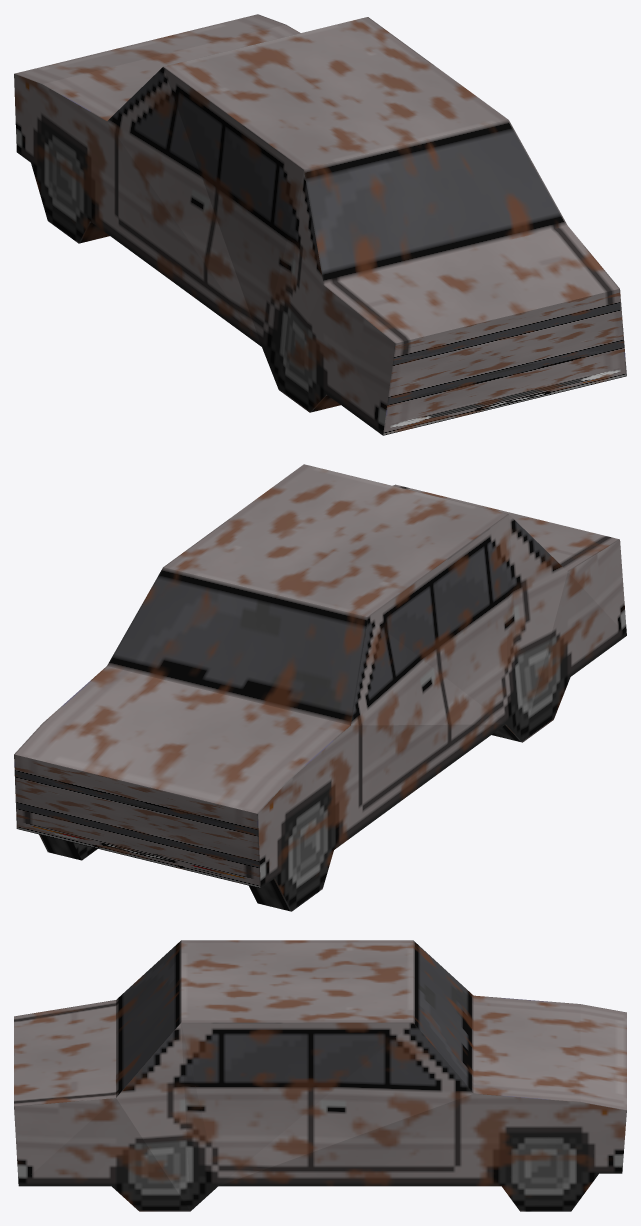
Rendered from prop_car1.glb.
The picture shows the model from 3 angles, top to bottom: view 1: azimuth 30°, elevation 25°; view 2: azimuth 150°, elevation 25°; view 3: azimuth 270°, elevation 25°; orthographic projection. The views are drawn at different scales.
Parts seen in each view (by area): view 1: hull; view 2: hull; view 3: hull.
Part boxes in pixels (x1,y1,x2,y2): hull: [14, 14, 626, 435]; hull: [14, 464, 626, 911]; hull: [14, 940, 626, 1211].
Size of the model in its own units: 0.8712 by 0.7492 by 2.3.
Materials: 1 (1 with a texture image).
